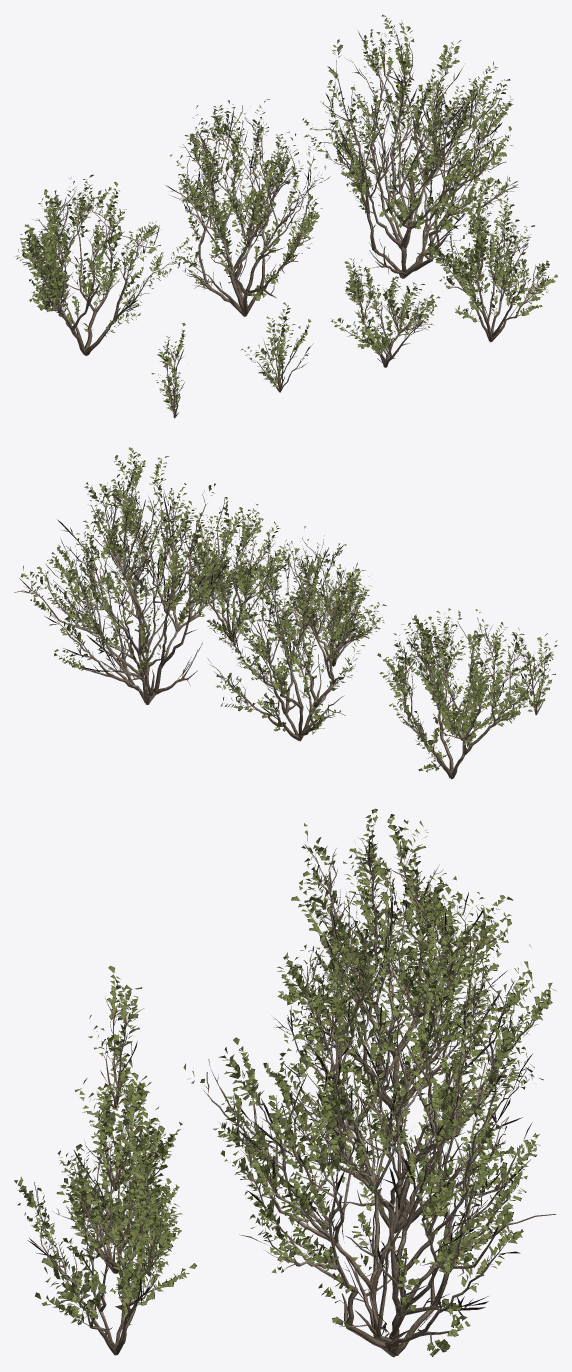
Rendered from searsia_lucida.glb.
3 views of the same model, one above another, from view 1: azimuth 30°, elevation 25°; view 2: azimuth 150°, elevation 25°; view 3: azimuth 270°, elevation 25° (orthographic). The views are drawn at different scales.
Visible parts, largest first — view 1: searsia_lucida_a_LOD0, searsia_lucida_b_LOD0, searsia_lucida_c_LOD0, searsia_lucida_d_LOD0, searsia_lucida_e_LOD0, searsia_lucida_f_LOD0, searsia_lucida_g_LOD0; view 2: searsia_lucida_a_LOD0, searsia_lucida_b_LOD0, searsia_lucida_c_LOD0, searsia_lucida_d_LOD0, searsia_lucida_e_LOD0, searsia_lucida_f_LOD0, searsia_lucida_g_LOD0; view 3: searsia_lucida_a_LOD0, searsia_lucida_b_LOD0, searsia_lucida_c_LOD0, searsia_lucida_d_LOD0, searsia_lucida_e_LOD0, searsia_lucida_g_LOD0, searsia_lucida_f_LOD0.
Part boxes in pixels (box(x1,y1,x2,y2)): searsia_lucida_a_LOD0: box(302, 14, 518, 278); searsia_lucida_b_LOD0: box(165, 99, 330, 316); searsia_lucida_c_LOD0: box(14, 174, 196, 355); searsia_lucida_d_LOD0: box(423, 180, 557, 342); searsia_lucida_e_LOD0: box(331, 258, 440, 367); searsia_lucida_f_LOD0: box(241, 302, 313, 392); searsia_lucida_g_LOD0: box(151, 323, 185, 418); searsia_lucida_a_LOD0: box(14, 447, 265, 704); searsia_lucida_b_LOD0: box(206, 526, 373, 741); searsia_lucida_c_LOD0: box(377, 608, 557, 779); searsia_lucida_d_LOD0: box(171, 497, 293, 641); searsia_lucida_e_LOD0: box(281, 568, 386, 666); searsia_lucida_f_LOD0: box(401, 614, 466, 689); searsia_lucida_g_LOD0: box(511, 633, 555, 715); searsia_lucida_a_LOD0: box(183, 950, 556, 1357); searsia_lucida_b_LOD0: box(274, 879, 555, 1233); searsia_lucida_c_LOD0: box(277, 808, 513, 1112); searsia_lucida_d_LOD0: box(14, 1105, 196, 1355); searsia_lucida_e_LOD0: box(54, 1069, 182, 1273); searsia_lucida_g_LOD0: box(88, 966, 144, 1108); searsia_lucida_f_LOD0: box(75, 1076, 161, 1190).
Bounding box in the file's own units: 4.76 × 2.32 × 2.83.
3 materials, 3 textured.
